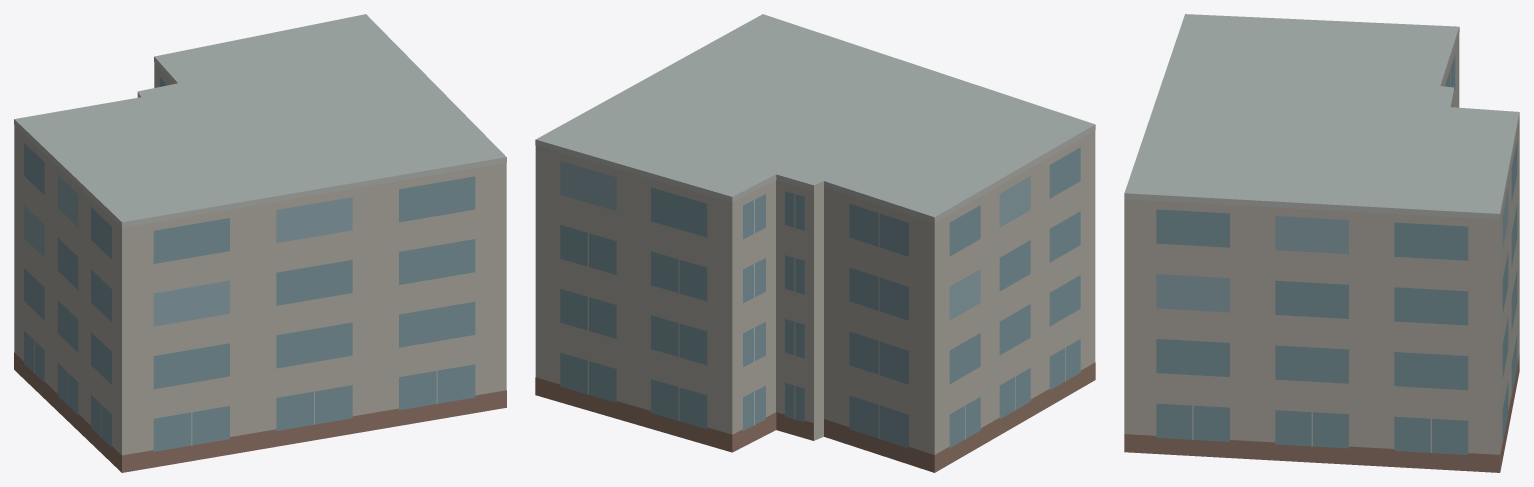
File: survey-upis-32626484.glb
3 views of the same model, side by side, from view 1: azimuth 30°, elevation 25°; view 2: azimuth 150°, elevation 25°; view 3: azimuth 270°, elevation 25° (orthographic). The views are drawn at different scales.
Parts seen in each view (by area): view 1: survey-upis-32626484.tmp; view 2: survey-upis-32626484.tmp; view 3: survey-upis-32626484.tmp.
Part boxes in pixels (box(x1,y1,x2,y2)): survey-upis-32626484.tmp: box(14, 14, 506, 472); survey-upis-32626484.tmp: box(535, 14, 1095, 472); survey-upis-32626484.tmp: box(1124, 14, 1519, 472).
Bounding box in the file's own units: 17.89 × 10.8 × 14.95.
